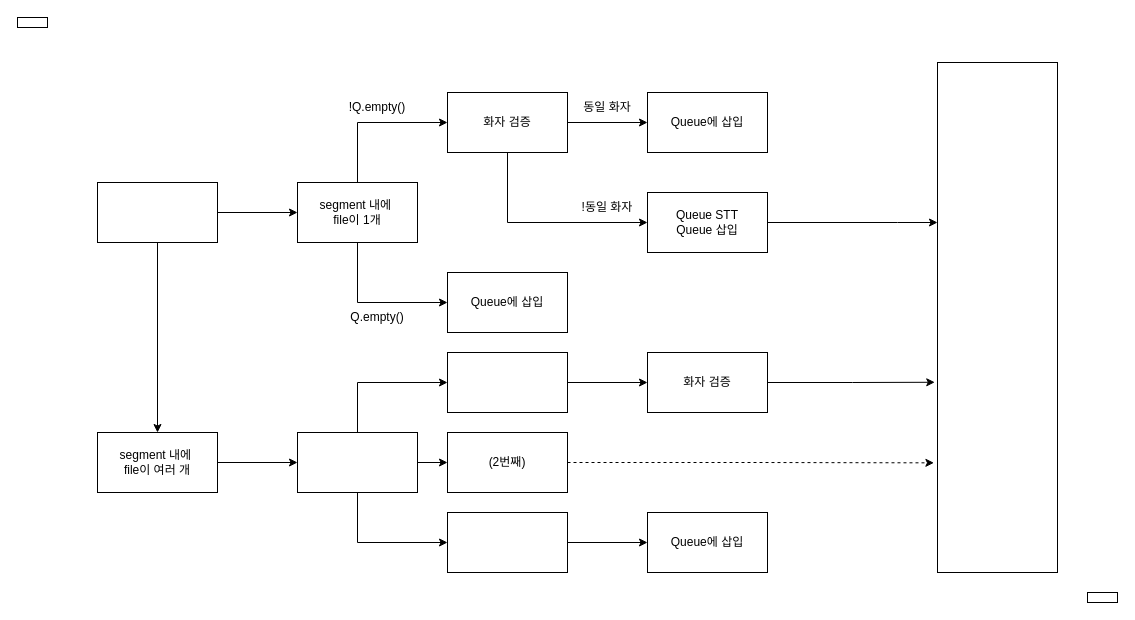
The diagram is 1135 pixels wide and 620 high, and some of its shapes have lost their labels. Each missing label, with the box of its shape:
separated_segment: (96, 182, 218, 242)
마지막: (446, 512, 568, 572)
무음 제거 & STT: (936, 62, 1058, 572)
순서 정렬: (296, 432, 418, 492)
첫번째: (446, 352, 568, 412)
